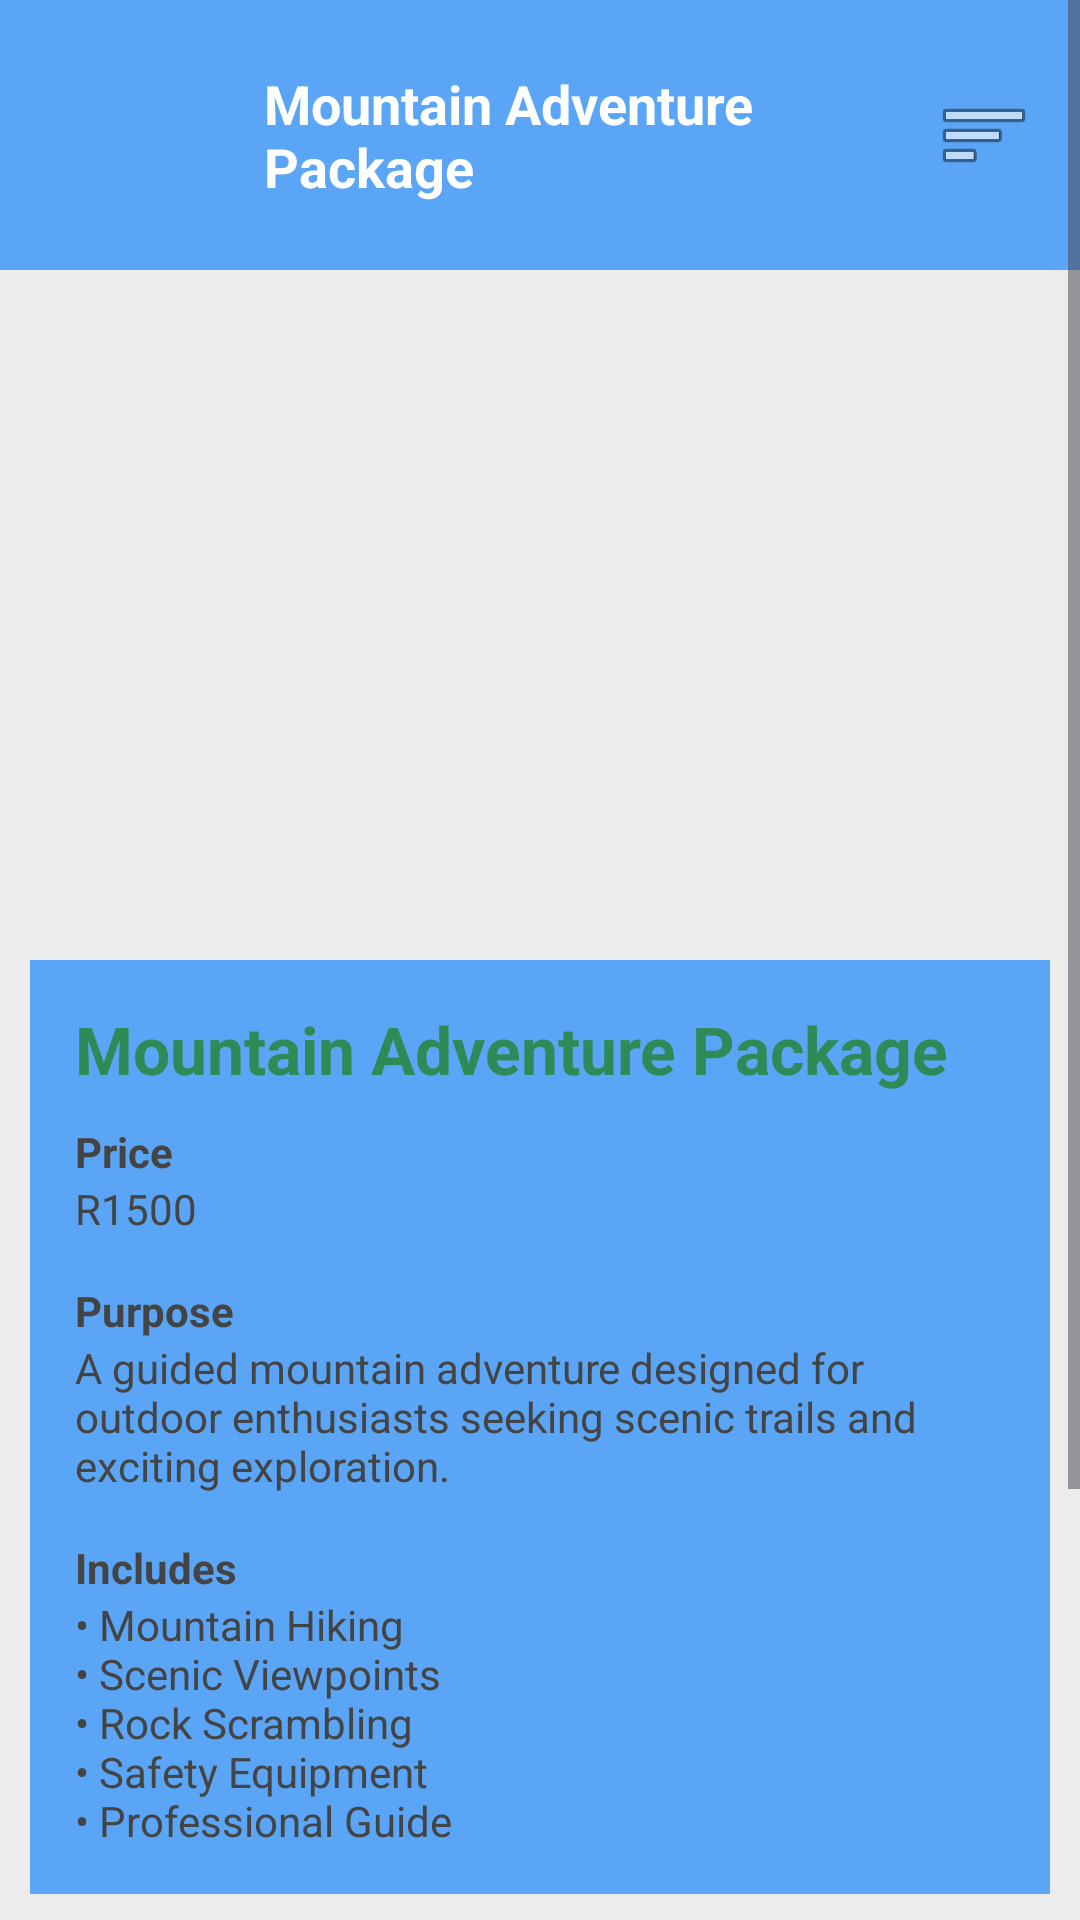

Where to tap for icons on this 1080×1920 app screen, as (x,y):
sort by size: (984,135)
